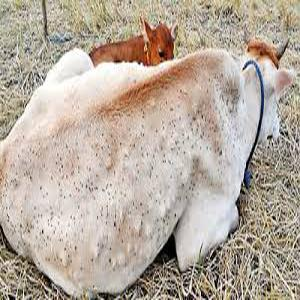lumpy skin diesease: (0, 36, 294, 299), (87, 16, 178, 67)
